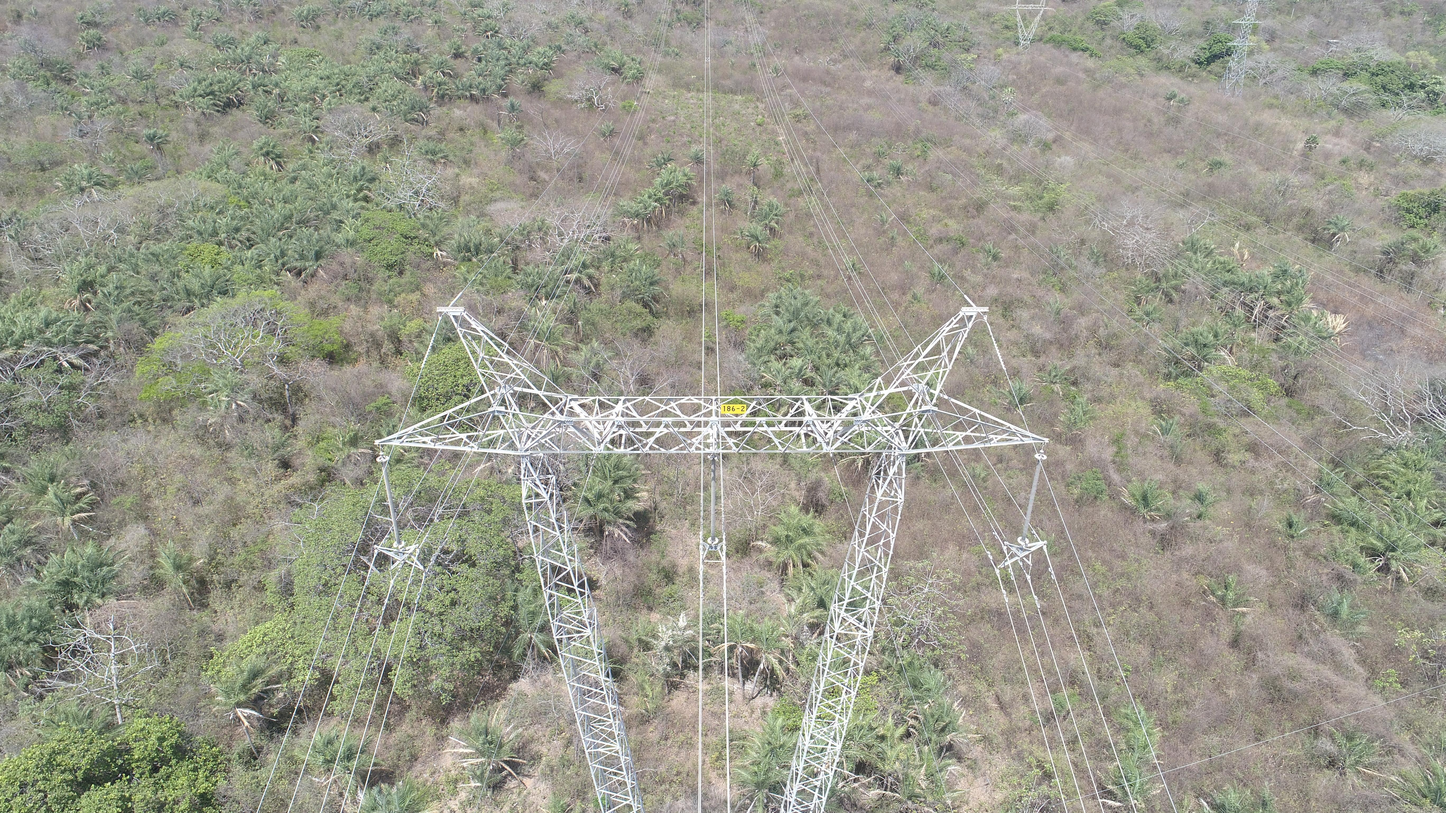power_tower: (368, 301, 1056, 813), (1218, 0, 1266, 94), (1005, 0, 1056, 53)
